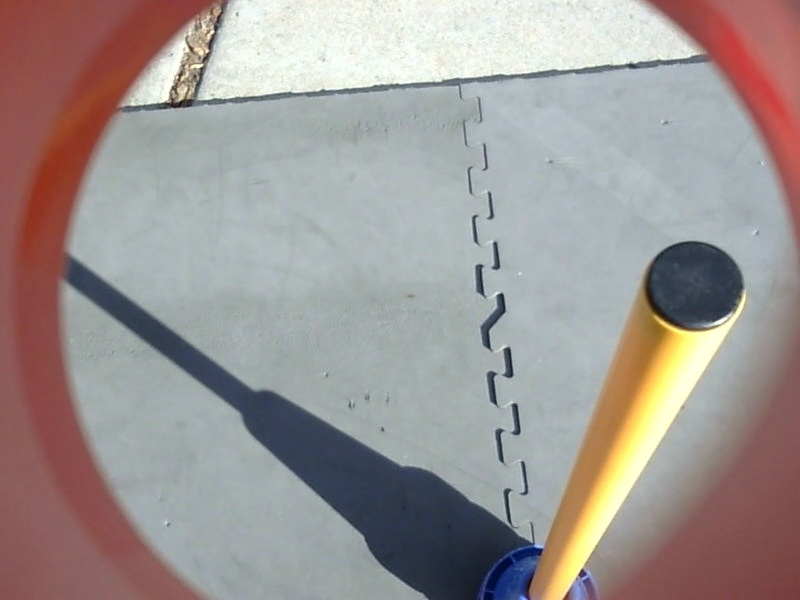tip: (636, 236, 752, 339)
